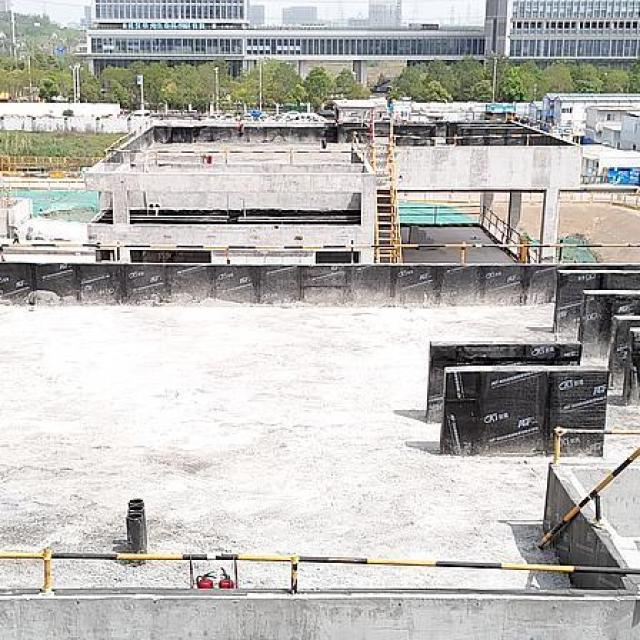edge_guardrail: (0, 546, 640, 636), (0, 238, 640, 268), (101, 117, 366, 167), (535, 445, 640, 551), (394, 112, 570, 148), (551, 425, 640, 466), (398, 205, 482, 225), (481, 206, 520, 245)
